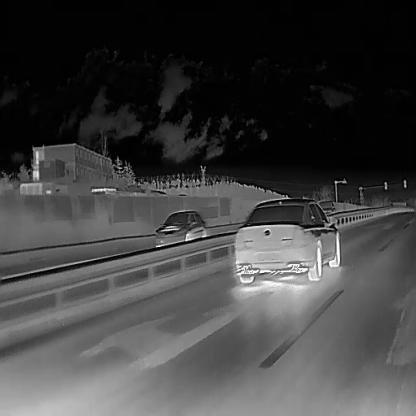car: (233, 195, 341, 282), (153, 209, 207, 246), (316, 199, 336, 216)
